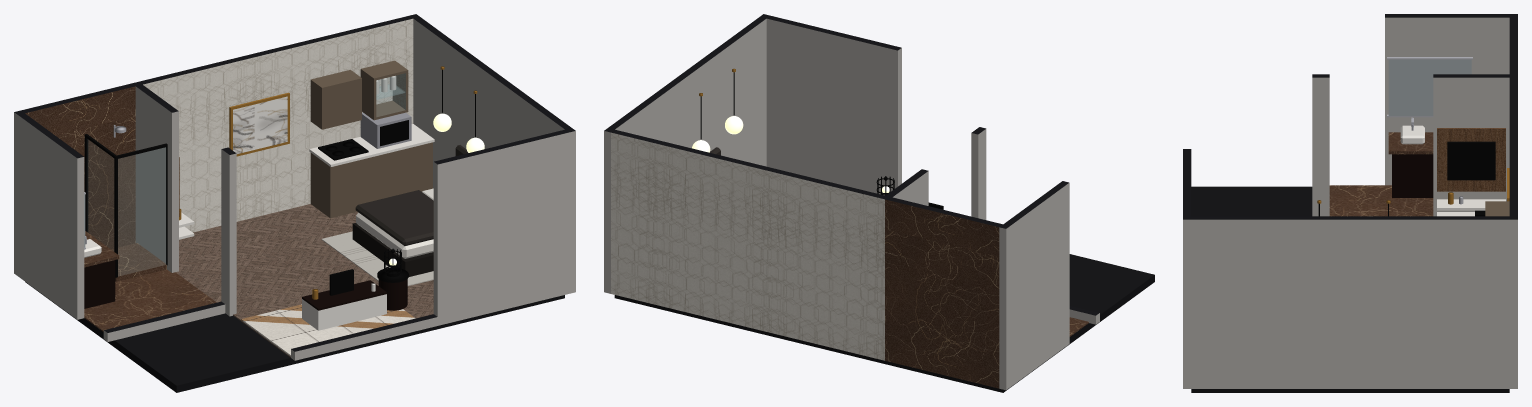
File: studio-apartment.glb
The picture shows the model from 3 angles, left to right: view 1: azimuth 30°, elevation 25°; view 2: azimuth 150°, elevation 25°; view 3: azimuth 270°, elevation 25°; orthographic projection. The views are drawn at different scales.
Visible parts, largest first — view 1: mesh0; view 2: mesh0; view 3: mesh0.
Part boxes in pixels (x1=…): mesh0: x1=14, y1=14, x2=575, y2=392; mesh0: x1=604, y1=14, x2=1154, y2=392; mesh0: x1=1183, y1=14, x2=1517, y2=392.
Bounding box in the file's own units: 7.04 × 2.83 × 4.84.
25 materials, 7 textured.
